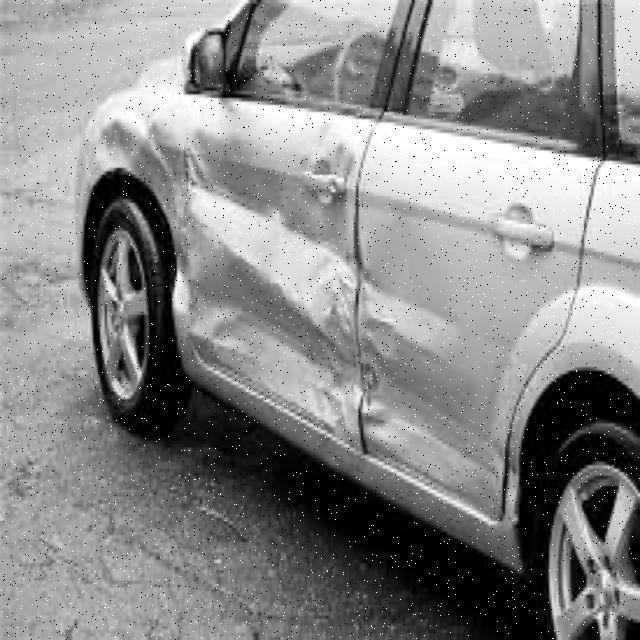doorouter-dent: (363, 117, 561, 456), (180, 98, 361, 426)
fender-dent: (70, 77, 186, 231)
